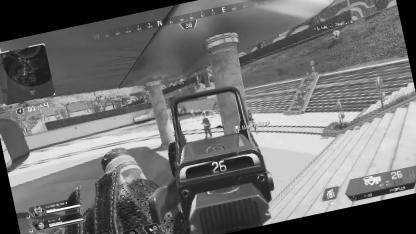Target: (198, 113, 214, 138), (245, 108, 254, 124)
